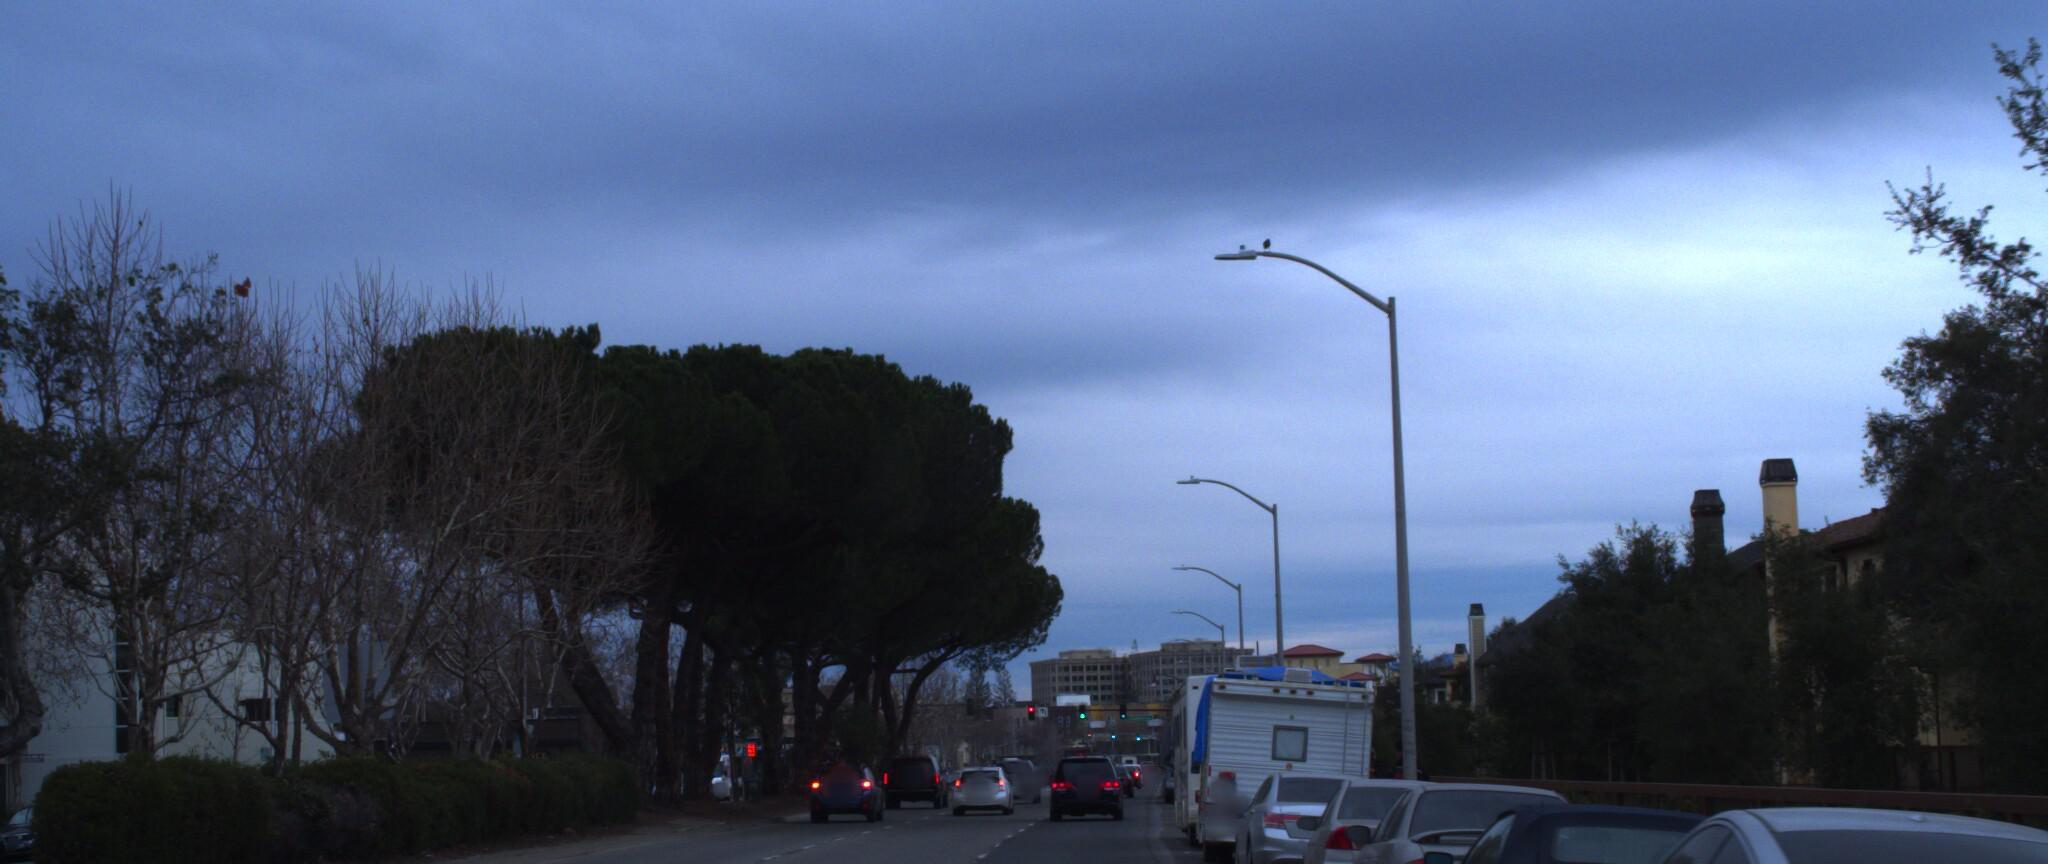car: (1512, 778, 2048, 864), (1391, 777, 1805, 864), (1314, 754, 1620, 864), (1279, 754, 1492, 864), (1215, 754, 1384, 864), (1048, 743, 1126, 810), (795, 753, 878, 814)
other_vehicle: (1176, 647, 1405, 864), (1162, 628, 1368, 844)
